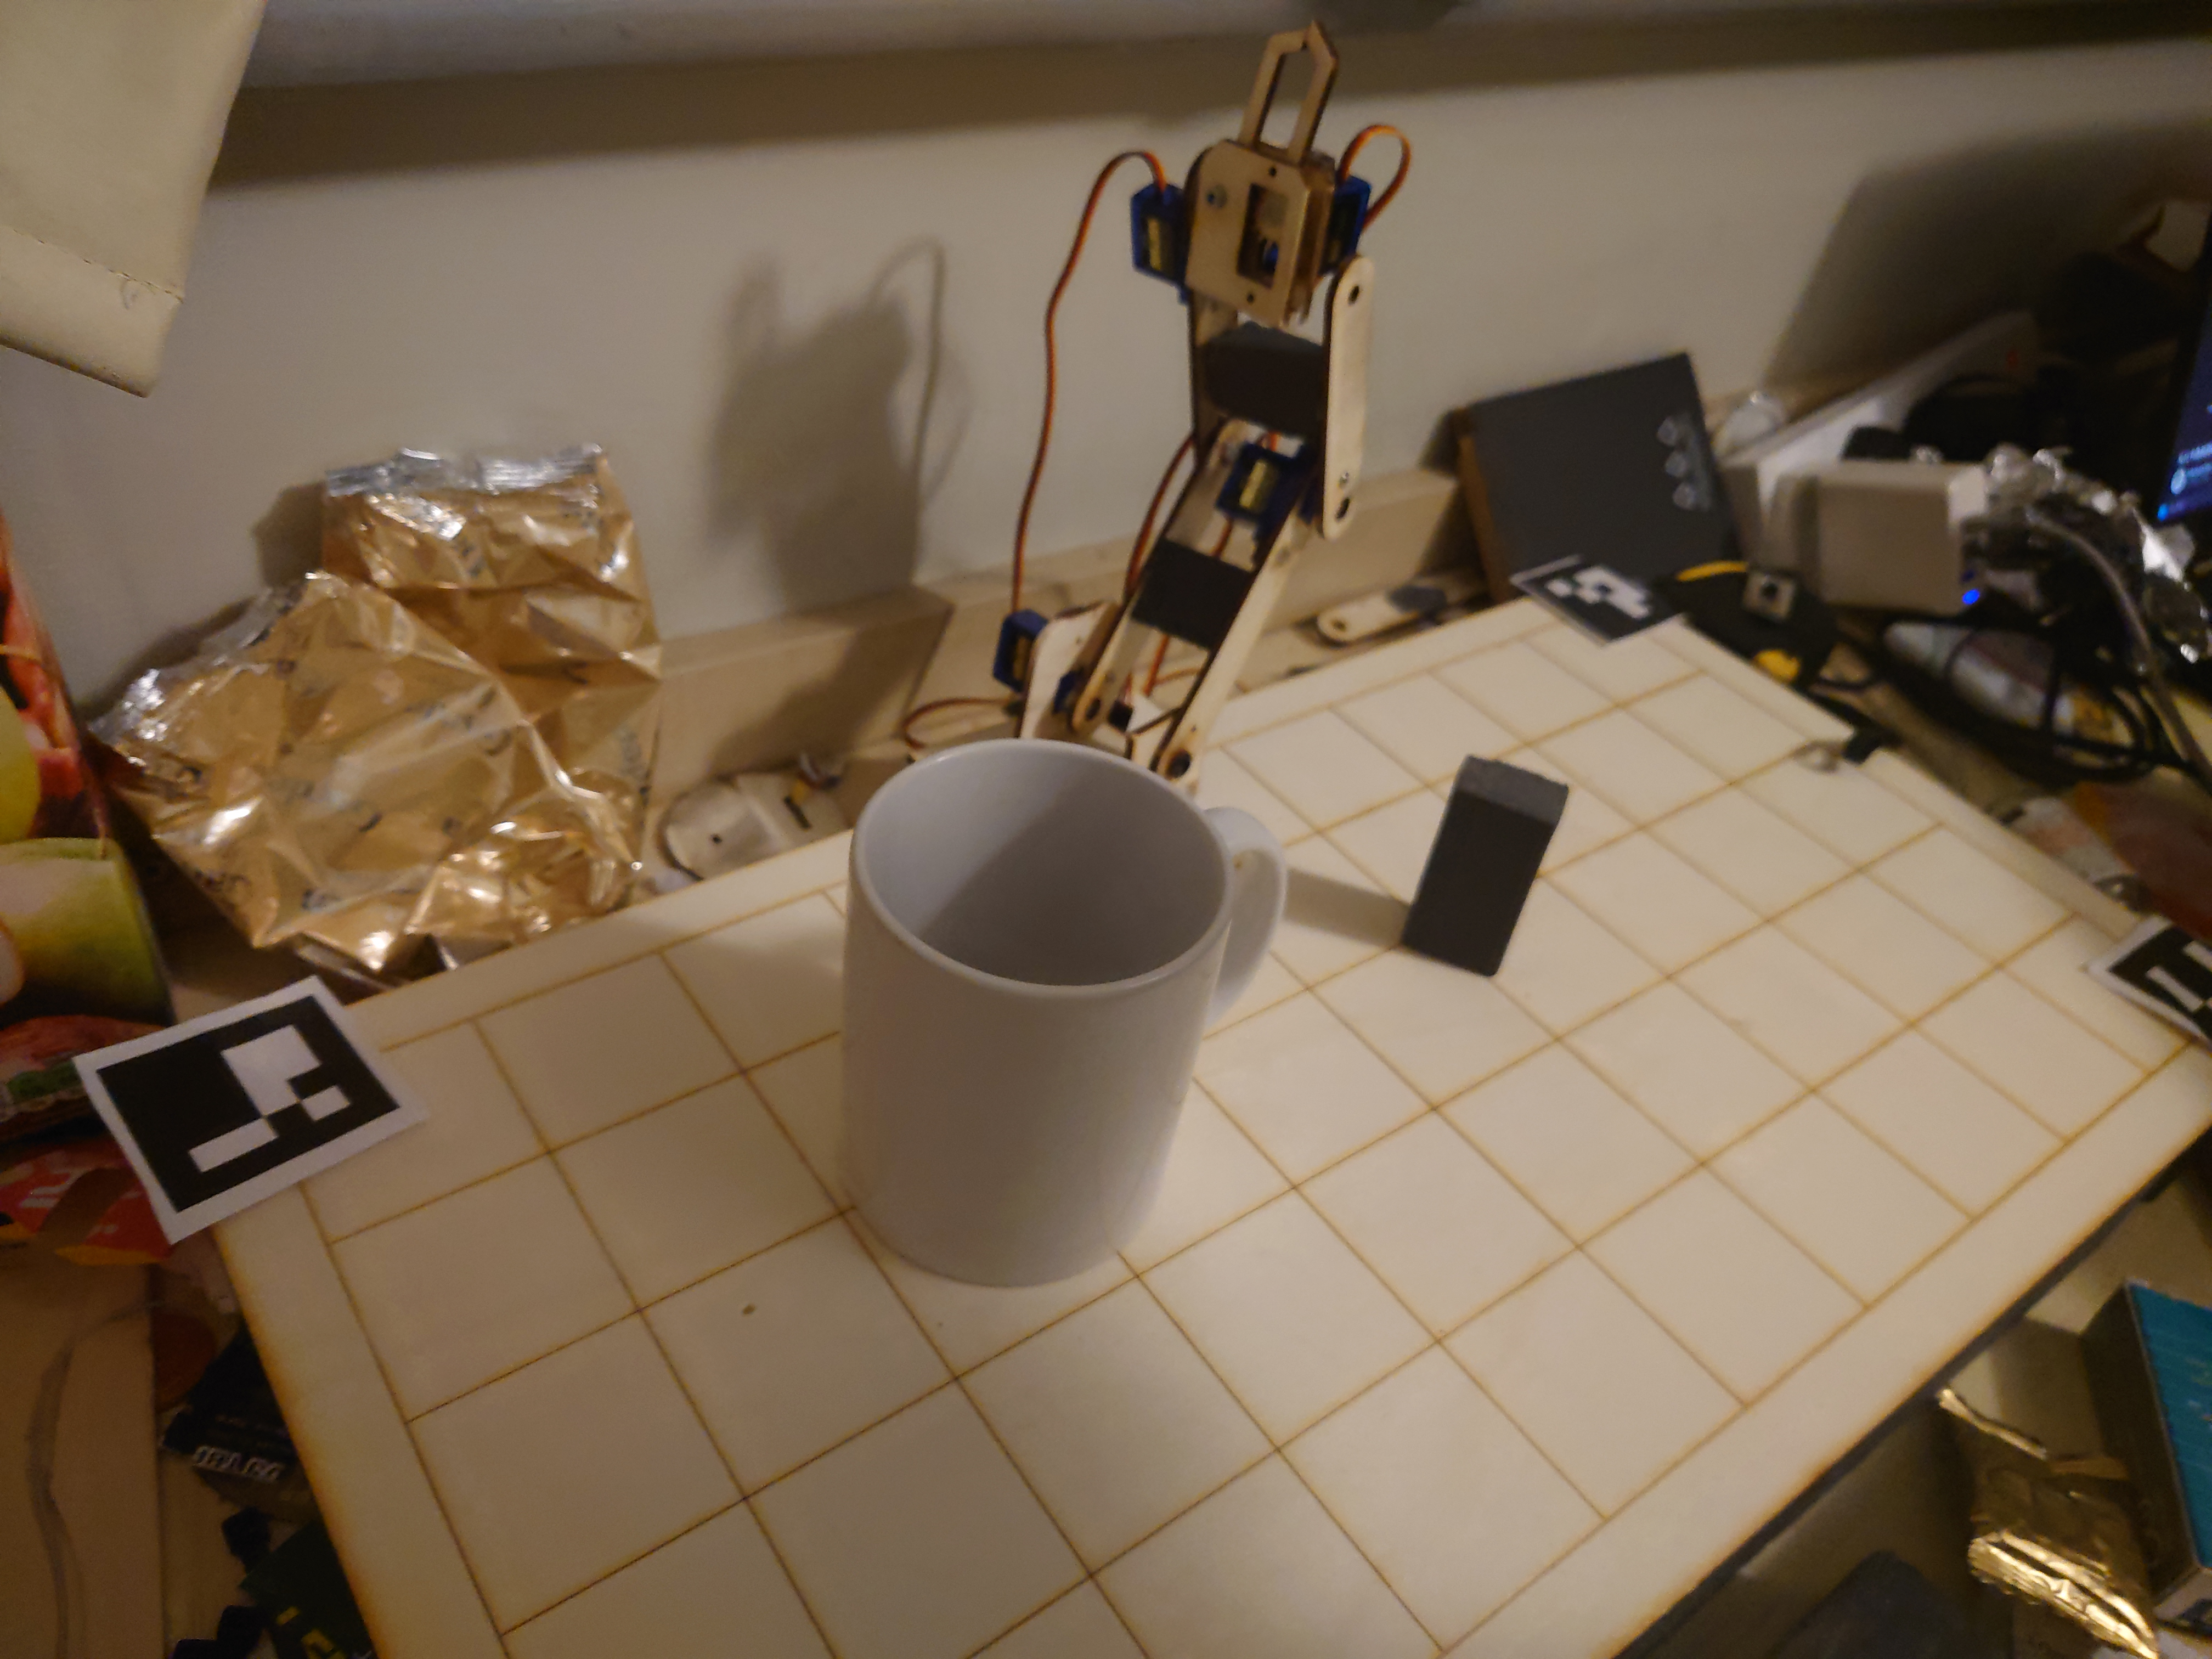cup: (822, 720, 1289, 1291)
target: (1397, 746, 1573, 981)
